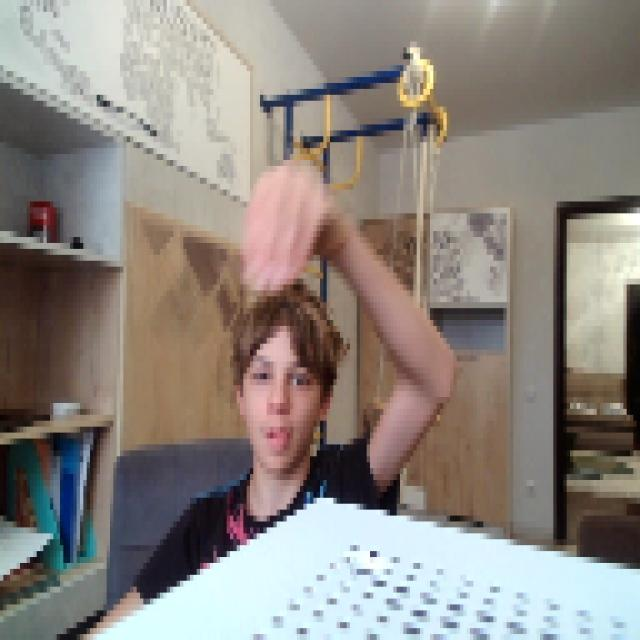left_click: (236, 148, 326, 290)
